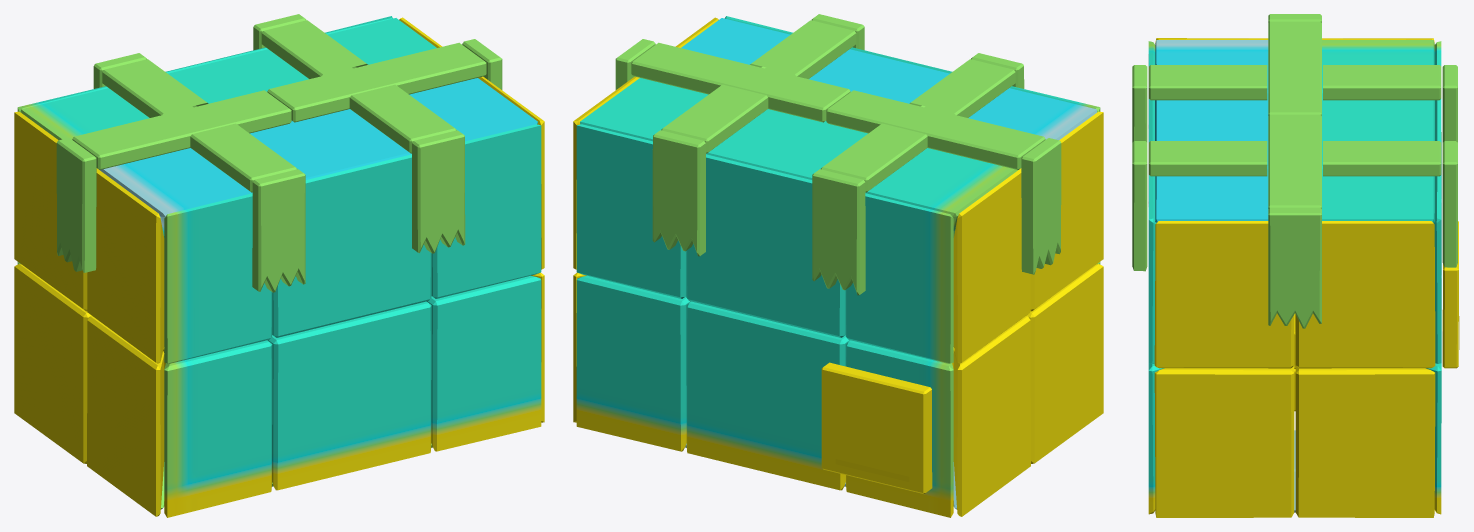
The model's file is level_160.fbx.
The picture shows the model from 3 angles, left to right: view 1: azimuth 30°, elevation 25°; view 2: azimuth 150°, elevation 25°; view 3: azimuth 270°, elevation 25°; orthographic projection. The views are drawn at different scales.
Visible parts, largest first — view 1: Cube_L1_17.003, Cube_L1_16.003, Cube_L1_4.004, Cube_L1_27.001, Cube_L1_7.004, Cube_L1_9.004, Cube_L1_11.004, Cube_L1_22.002, Cube_L1_20.002, Cube_L1_14.004, Cube_L1_40, Cube_L1_37 (+18 smaller); view 2: Cube_L1_19.003, Cube_L1_15.004, Cube_L1_24.002, Cube_L1_23.002, Cube_L1_8.004, Cube_L1_21.002, Cube_L1_22.002, Cube_L1_11.004, Cube_L1_14.004, Cube_L1_20.002, Cube_L1_5.004, Cube_L1_40 (+19 smaller); view 3: Cube_L1_13.004, Cube_L1_26.001, Cube_L1_18.003, Cube_L1_25.001, Cube_L1_28, Cube_L1_12.004, Cube_L1_30, Cube_L1_37, Cube_L1_40, Cube_L1_3.004, Cube_L1_34, Cube_L1_38 (+15 smaller).
Boxes of the visible parts, left/top/right/bottom form: Cube_L1_17.003: left=267, top=301, right=431, bottom=490; Cube_L1_16.003: left=272, top=154, right=431, bottom=337; Cube_L1_4.004: left=427, top=275, right=541, bottom=451; Cube_L1_27.001: left=164, top=340, right=272, bottom=517; Cube_L1_7.004: left=164, top=193, right=272, bottom=363; Cube_L1_9.004: left=431, top=124, right=541, bottom=298; Cube_L1_11.004: left=87, top=316, right=164, bottom=516; Cube_L1_22.002: left=14, top=264, right=91, bottom=463; Cube_L1_20.002: left=87, top=168, right=164, bottom=363; Cube_L1_14.004: left=14, top=111, right=87, bottom=311; Cube_L1_40: left=72, top=90, right=291, bottom=169; Cube_L1_37: left=267, top=42, right=486, bottom=122; Cube_L1_19.003: left=686, top=301, right=849, bottom=490; Cube_L1_15.004: left=686, top=154, right=845, bottom=337; Cube_L1_24.002: left=576, top=275, right=690, bottom=451; Cube_L1_23.002: left=845, top=193, right=953, bottom=363; Cube_L1_8.004: left=576, top=124, right=686, bottom=298; Cube_L1_21.002: left=821, top=362, right=932, bottom=493; Cube_L1_22.002: left=953, top=316, right=1030, bottom=516; Cube_L1_11.004: left=1026, top=264, right=1103, bottom=463; Cube_L1_14.004: left=953, top=168, right=1030, bottom=363; Cube_L1_20.002: left=1030, top=111, right=1103, bottom=311; Cube_L1_5.004: left=845, top=340, right=953, bottom=517; Cube_L1_40: left=826, top=90, right=1045, bottom=169; Cube_L1_13.004: left=1295, top=366, right=1435, bottom=517; Cube_L1_26.001: left=1154, top=366, right=1294, bottom=517; Cube_L1_18.003: left=1154, top=221, right=1294, bottom=368; Cube_L1_25.001: left=1295, top=221, right=1435, bottom=368; Cube_L1_28: left=1268, top=207, right=1321, bottom=328; Cube_L1_12.004: left=1155, top=169, right=1268, bottom=222; Cube_L1_30: left=1322, top=169, right=1434, bottom=222; Cube_L1_37: left=1268, top=114, right=1321, bottom=208; Cube_L1_40: left=1268, top=21, right=1321, bottom=115; Cube_L1_3.004: left=1155, top=93, right=1268, bottom=169; Cube_L1_34: left=1322, top=93, right=1434, bottom=169; Cube_L1_38: left=1148, top=65, right=1267, bottom=100.
Bounding box in the file's own units: 13.21 × 9.61 × 9.12.
